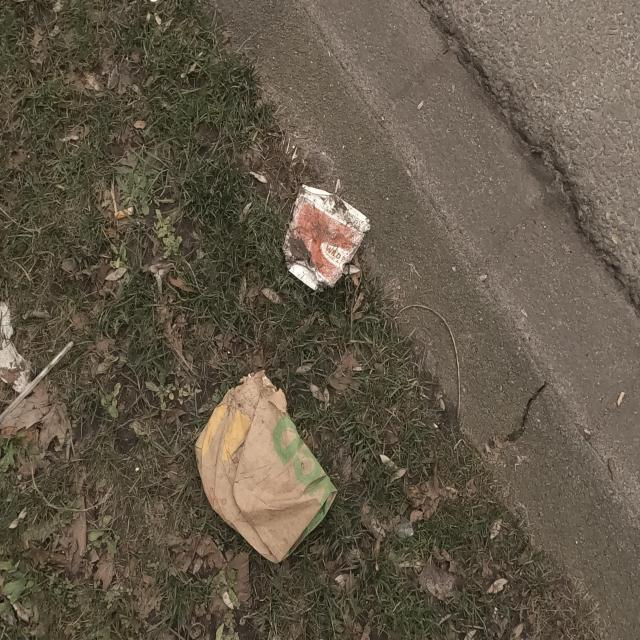Cup: (280, 182, 372, 294)
Paper: (192, 365, 340, 563), (0, 295, 33, 396)
